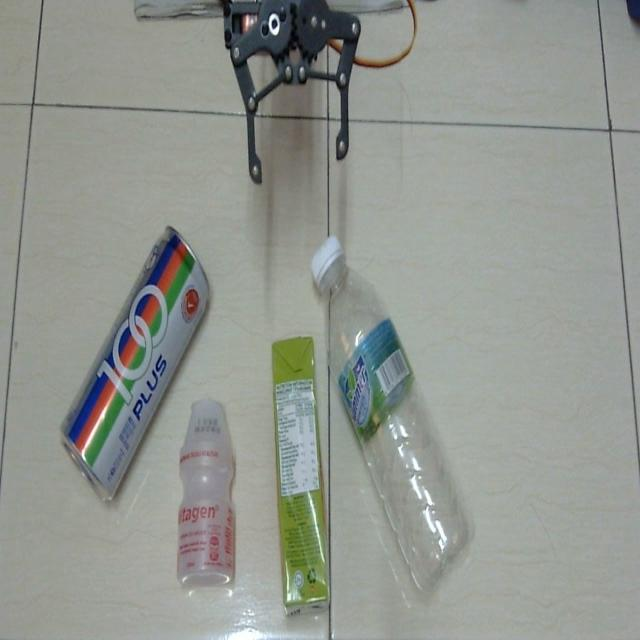Metal-laydown_45right-rotation: (59, 217, 212, 514)
Plastic-laydown_45left-rotation: (307, 221, 489, 609)
Plastic-laydown_90-rotation: (265, 333, 335, 623), (175, 394, 238, 598)
